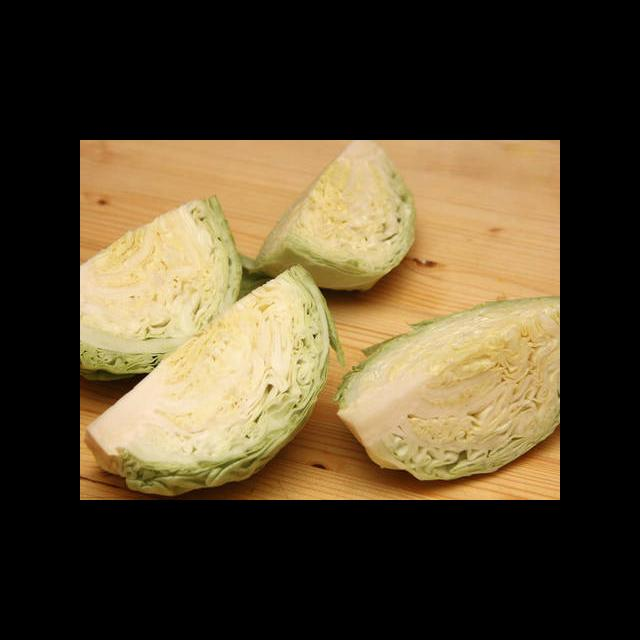cabbage: (84, 266, 336, 499), (334, 296, 560, 483), (80, 196, 259, 383), (243, 140, 417, 292)
